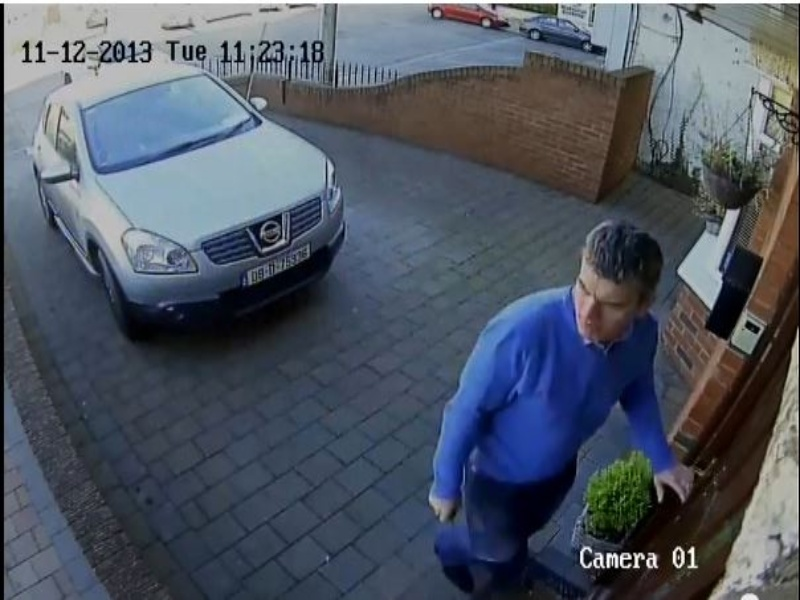car: (22, 46, 362, 352), (515, 9, 607, 63)
person: (423, 215, 701, 594)
